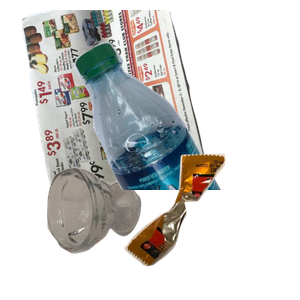glass: (44, 165, 178, 300)
paper: (19, 10, 223, 190)
plastic: (71, 39, 300, 219)
trash: (122, 151, 300, 300)
